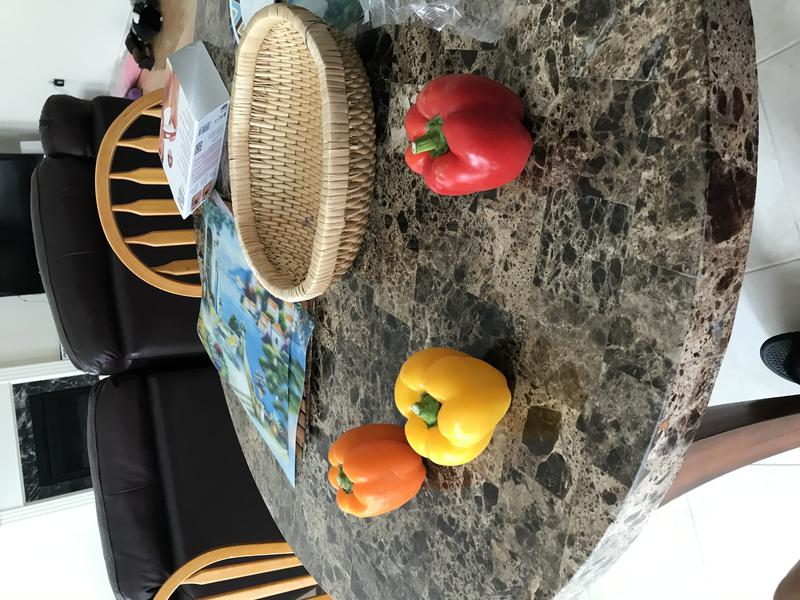orange_pepper: (323, 420, 428, 521)
red_pepper: (398, 71, 537, 198)
yellow_pepper: (393, 342, 513, 475)
